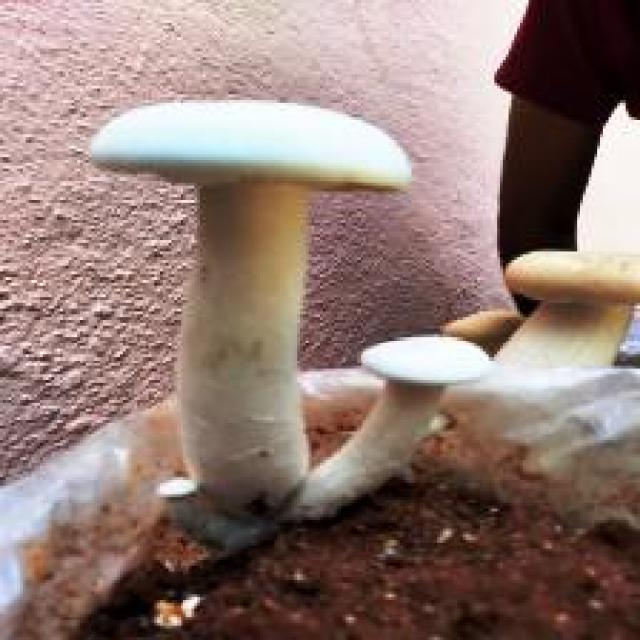field-mushroom: (86, 94, 414, 534)
